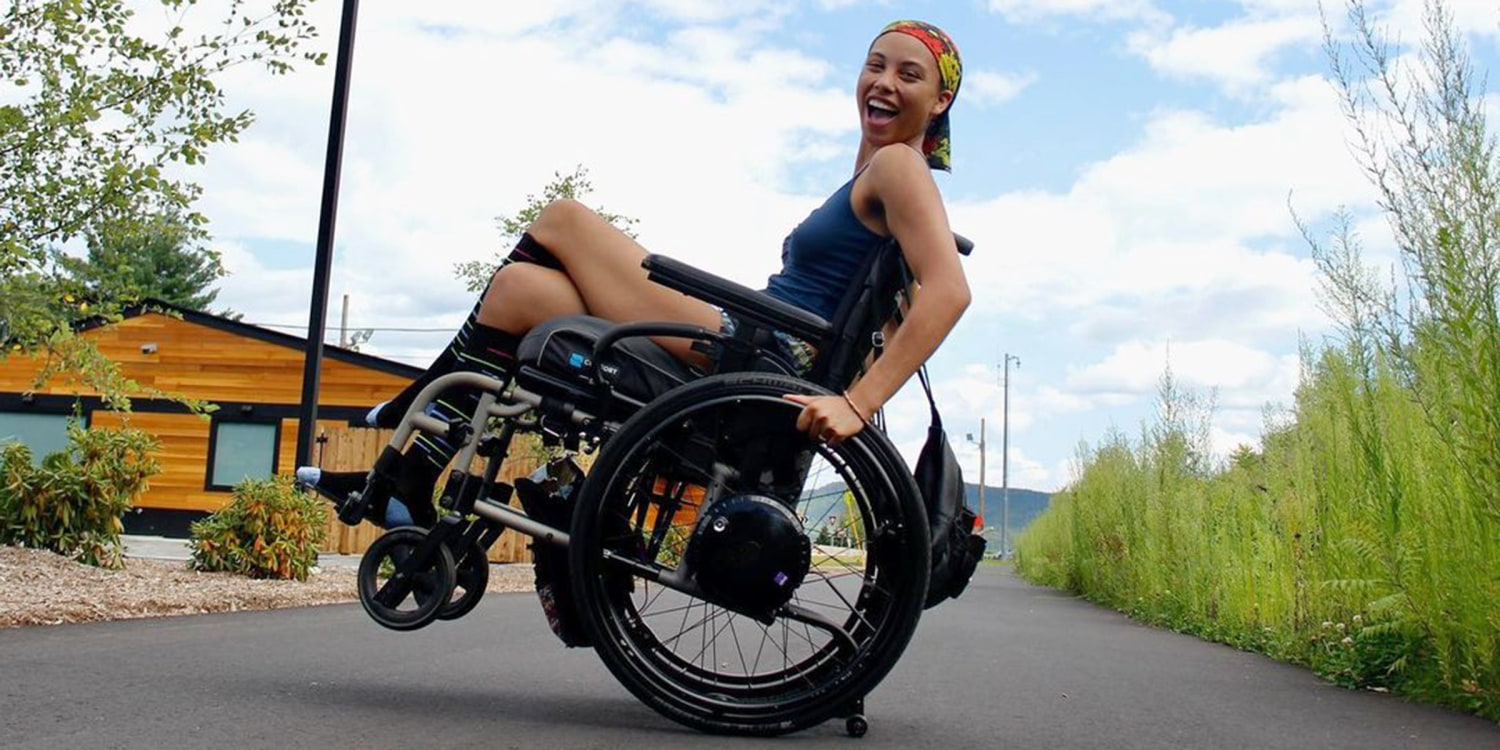wheelchair: (292, 20, 986, 749)
